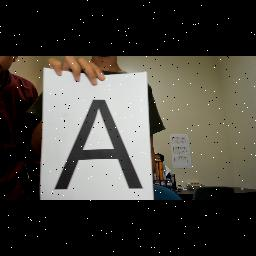a: (49, 91, 149, 197)
